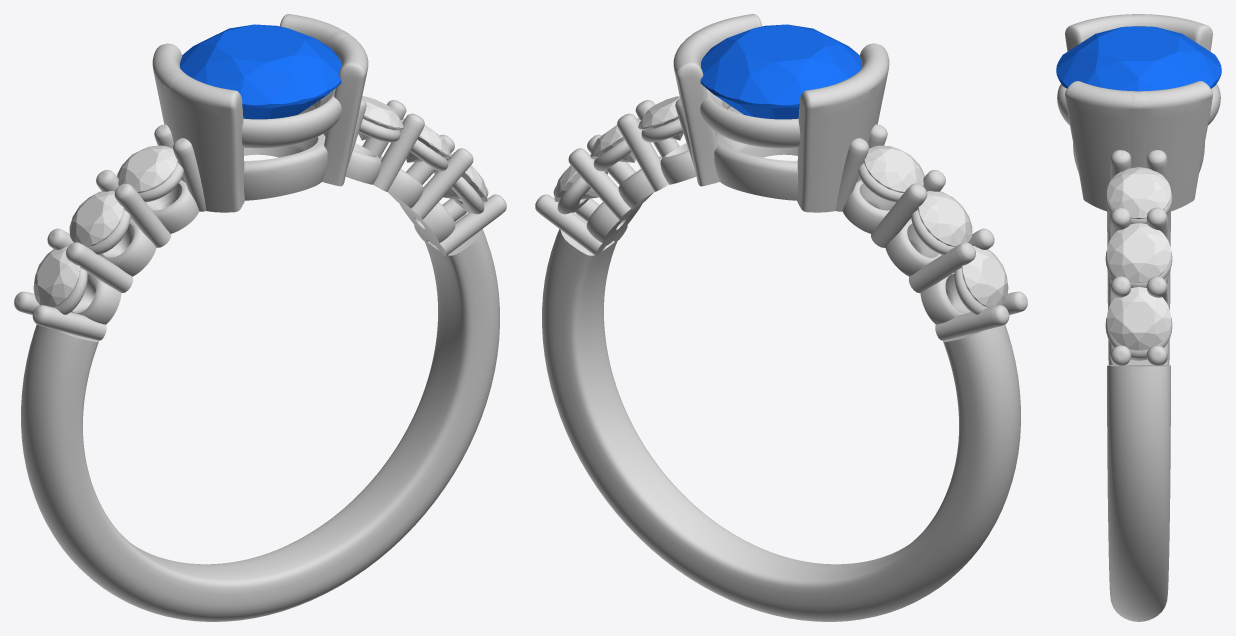
File: bluesapphire-round-platinum-halfmoonbezel-straightband-3stone.glb
3 renders of one model, left to right at view 1: azimuth 30°, elevation 25°; view 2: azimuth 150°, elevation 25°; view 3: azimuth 270°, elevation 25°, orthographic. The views are drawn at different scales.
Parts seen in each view (by area): view 1: metal, stone, side.001, side, side.002, side.003, side.004; view 2: metal, stone, side.001, side, side.002, side.003, side.004; view 3: metal, stone, side.005, side.004, side.003.
Boxes of the visible parts, x1,y1,x2,y2 form: metal: (14, 14, 506, 621); stone: (180, 24, 341, 119); side.001: (69, 191, 123, 246); side: (117, 145, 177, 192); side.002: (33, 246, 80, 307); side.003: (358, 96, 403, 140); side.004: (401, 118, 451, 162); metal: (535, 14, 1027, 621); stone: (700, 24, 861, 119); side.001: (918, 191, 972, 246); side: (864, 145, 924, 192); side.002: (961, 246, 1008, 307); side.003: (638, 96, 683, 140); side.004: (590, 118, 640, 162); metal: (1057, 14, 1220, 621); stone: (1056, 26, 1221, 91); side.005: (1107, 287, 1170, 350); side.004: (1107, 223, 1170, 282); side.003: (1107, 167, 1170, 219).
Bounding box in the file's own units: 20.58 × 23.81 × 6.44.
